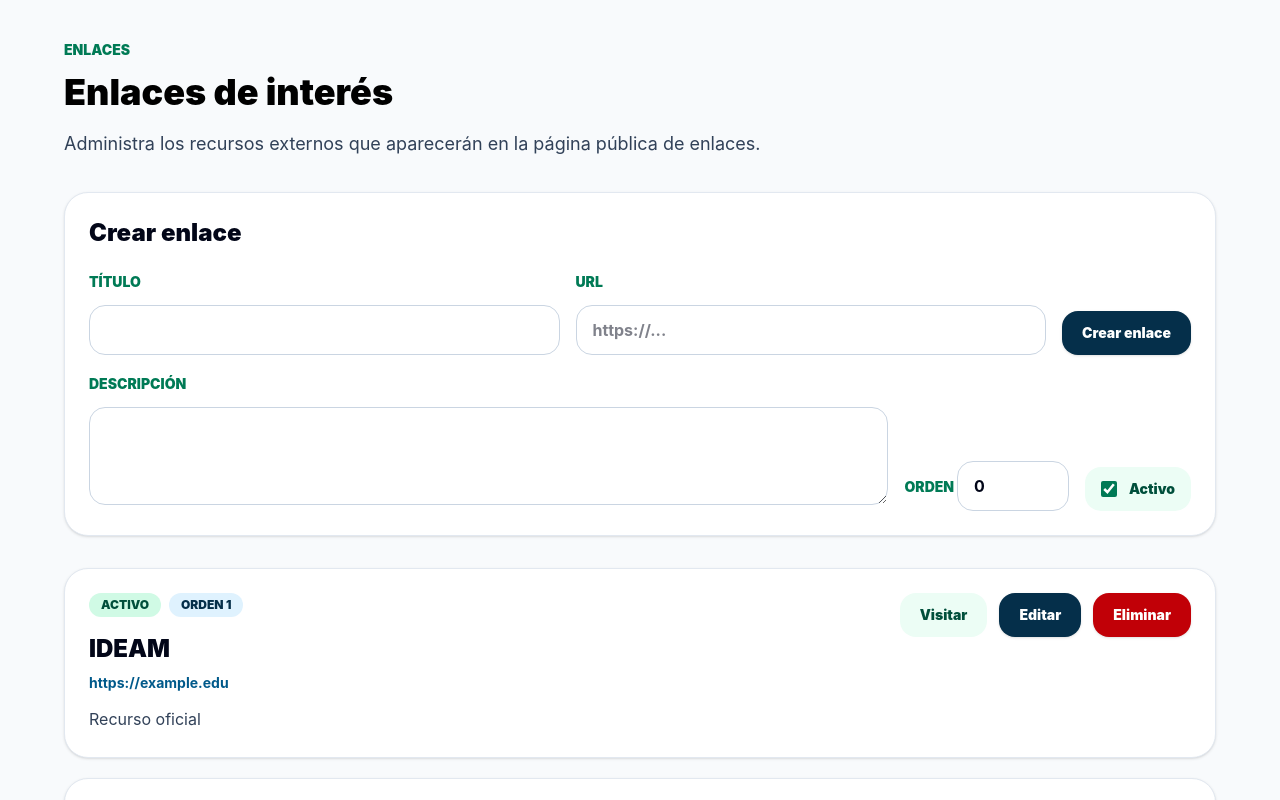
Test: AdminLinksView › opens delete modal, cancels it, then deletes the selected link
Click the button "Eliminar" at (1142, 615), box [1093,593,1191,637]
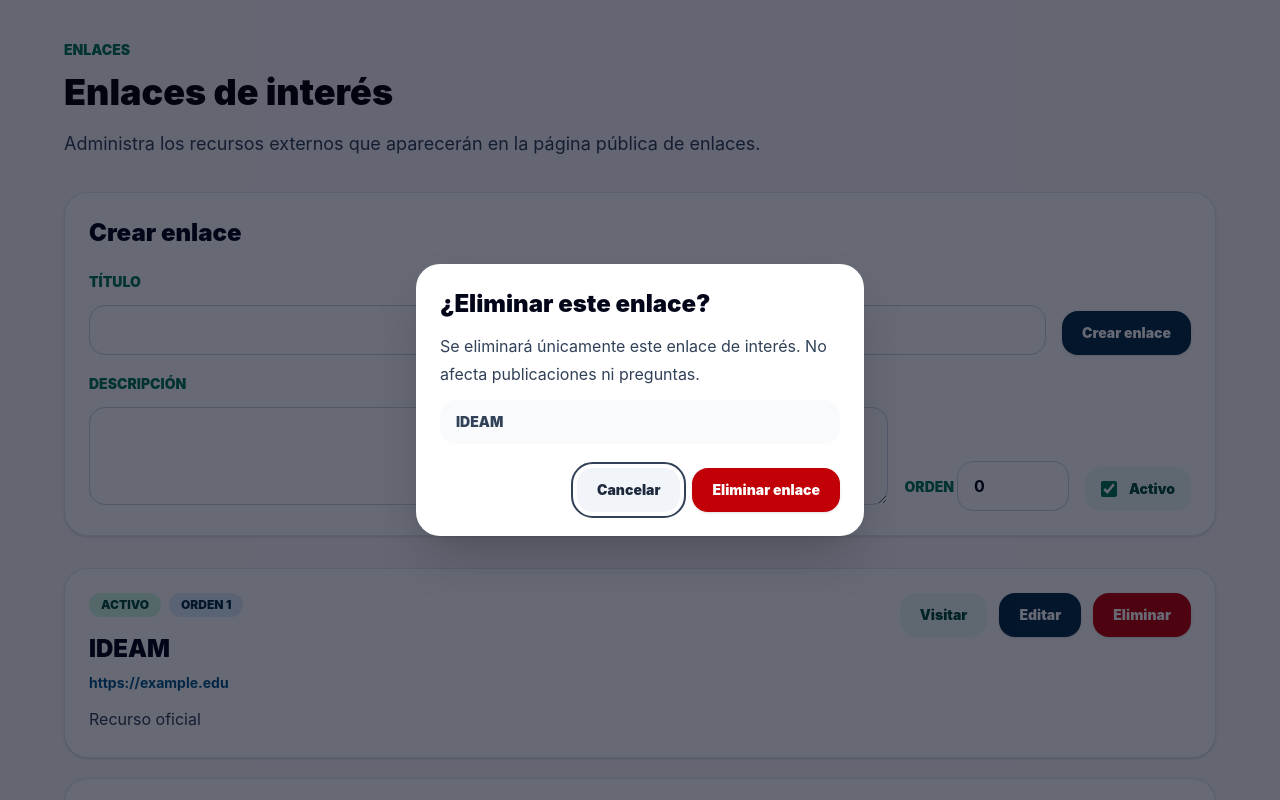
Expected: the text "¿Eliminar este enlace?" is shown, [440,289,710,318]
Click the button "Cancelar" at (629, 490), box [577,468,680,512]
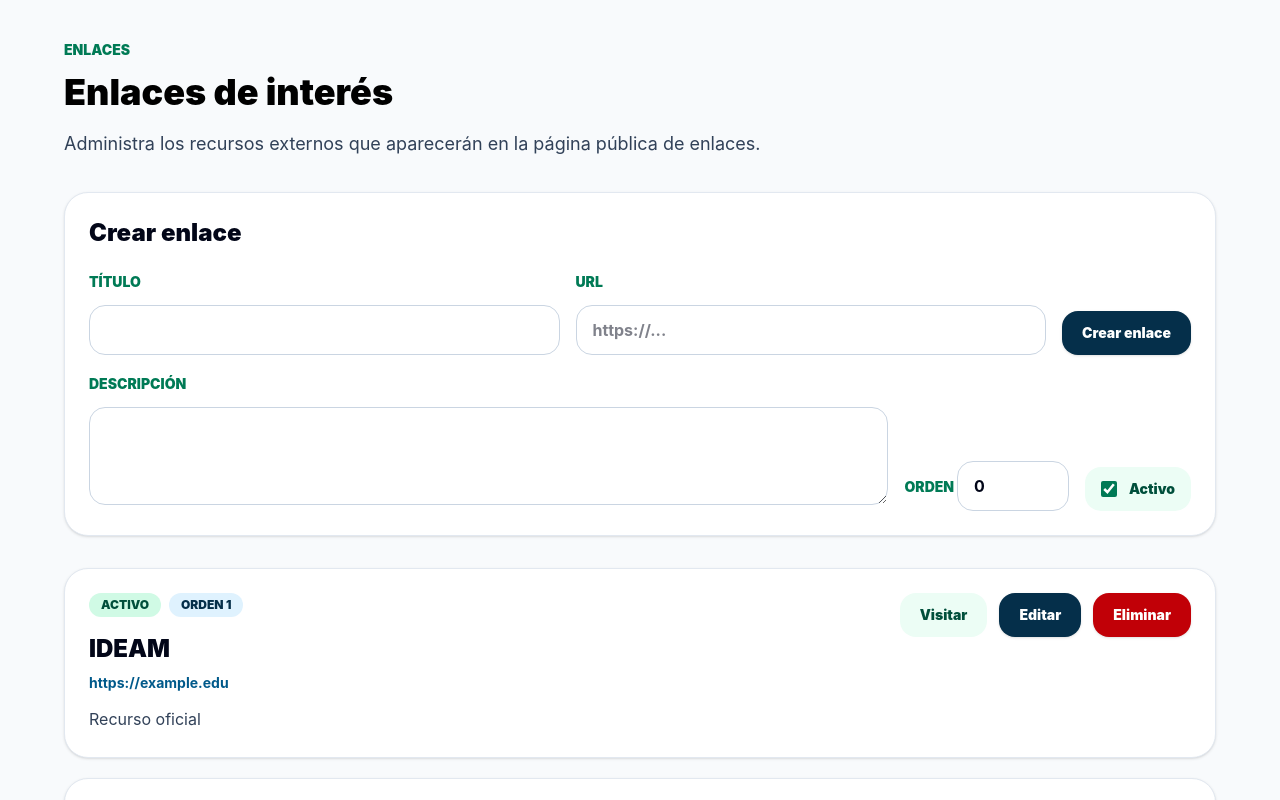
Click the button "Eliminar" at (1142, 615), box [1093,593,1191,637]
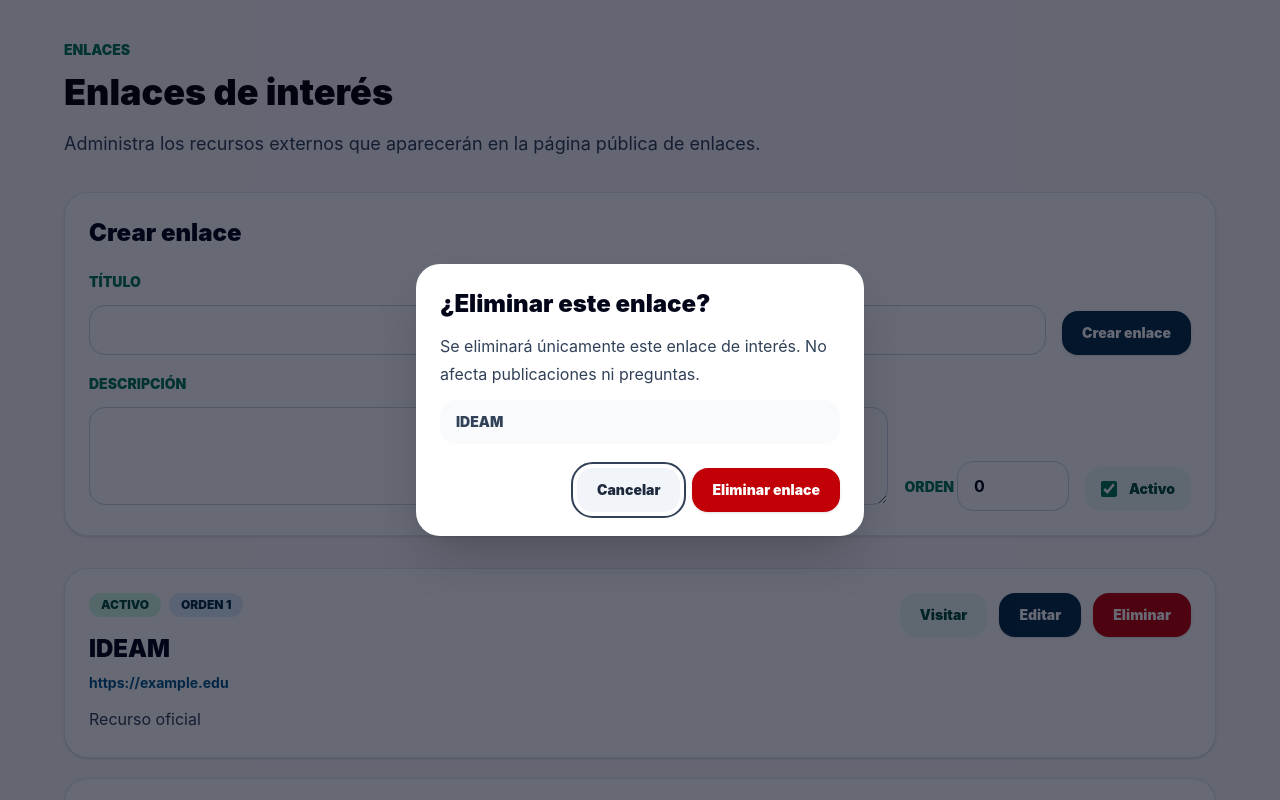
Click the button "Eliminar enlace" at (766, 490), box [692,468,840,512]
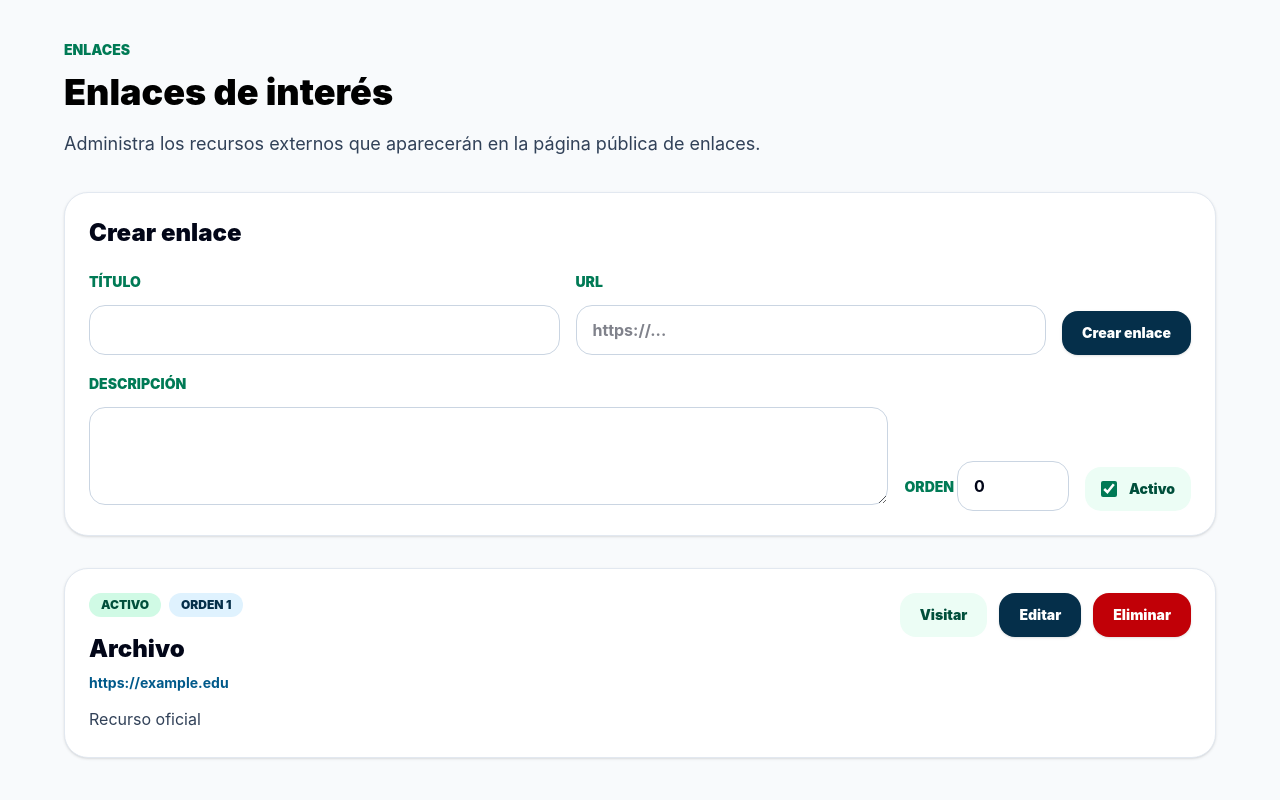
Expected: the text "Archivo" is shown, [89,634,185,663]
Expected: the text "IDEAM" is gone
